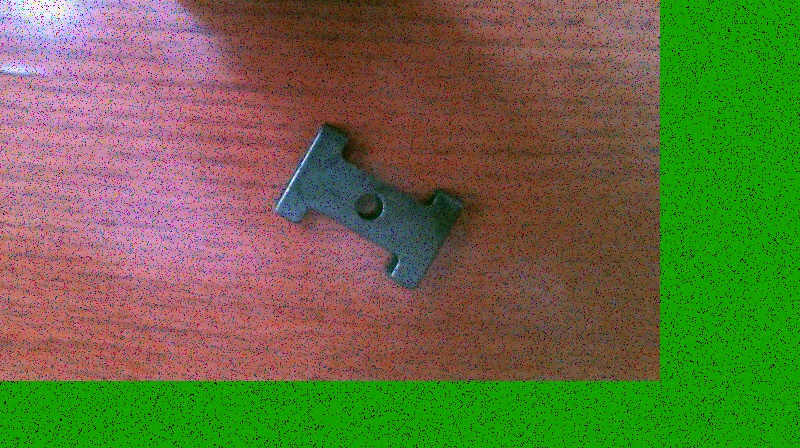O002: (266, 118, 468, 293)
